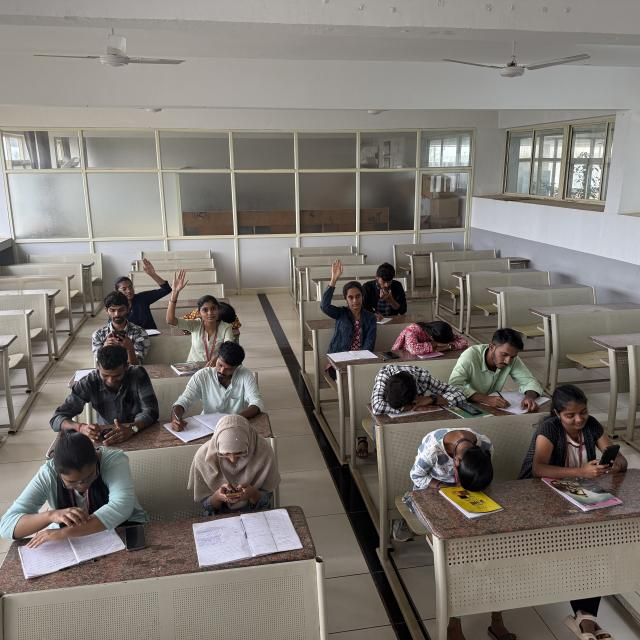Hand Rising: (166, 269, 229, 353), (320, 256, 373, 344), (111, 253, 165, 325)
Sleeping: (409, 425, 499, 493), (374, 363, 460, 411), (399, 316, 470, 352), (182, 295, 243, 330)
Using Phone: (522, 385, 628, 474), (49, 346, 147, 442), (188, 409, 278, 506), (90, 290, 146, 366)
Writing: (171, 339, 257, 437), (475, 329, 543, 410), (361, 260, 407, 325)
